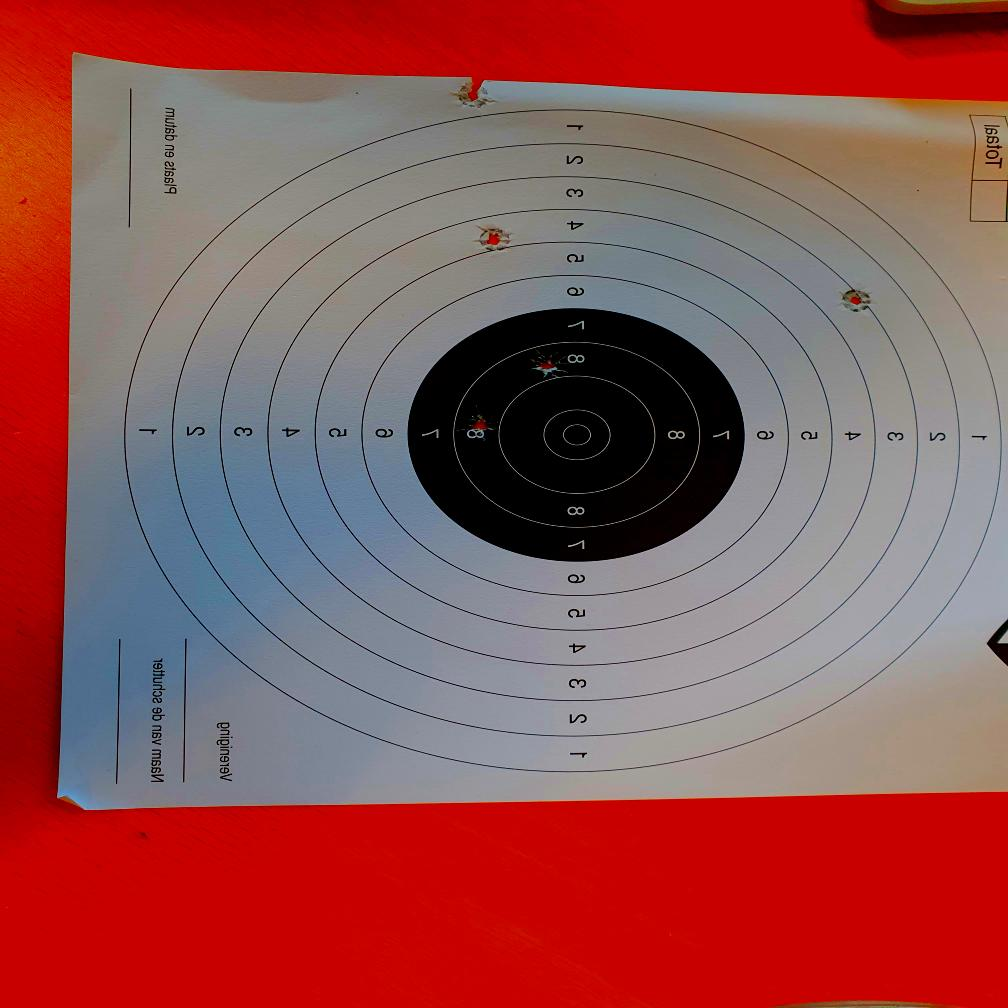0: (450, 82, 496, 111)
3: (839, 288, 875, 314)
5: (475, 223, 513, 253)
8: (123, 108, 1008, 774), (523, 347, 571, 380), (457, 407, 500, 440)
black_contour: (408, 307, 745, 561)
